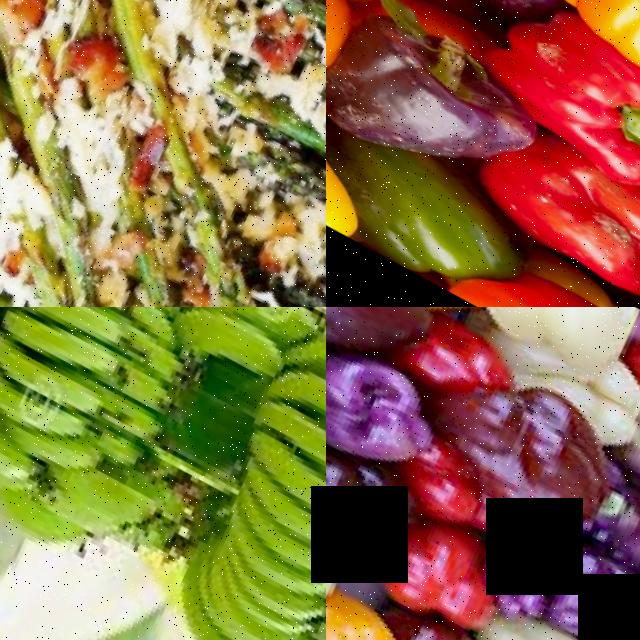banana: (0, 307, 257, 575), (158, 307, 326, 640)
bell pepper: (326, 0, 508, 182), (483, 0, 640, 198), (444, 366, 621, 527), (476, 129, 640, 298), (470, 307, 631, 379), (326, 345, 414, 464), (389, 535, 496, 626), (464, 598, 602, 640), (326, 307, 427, 356)
